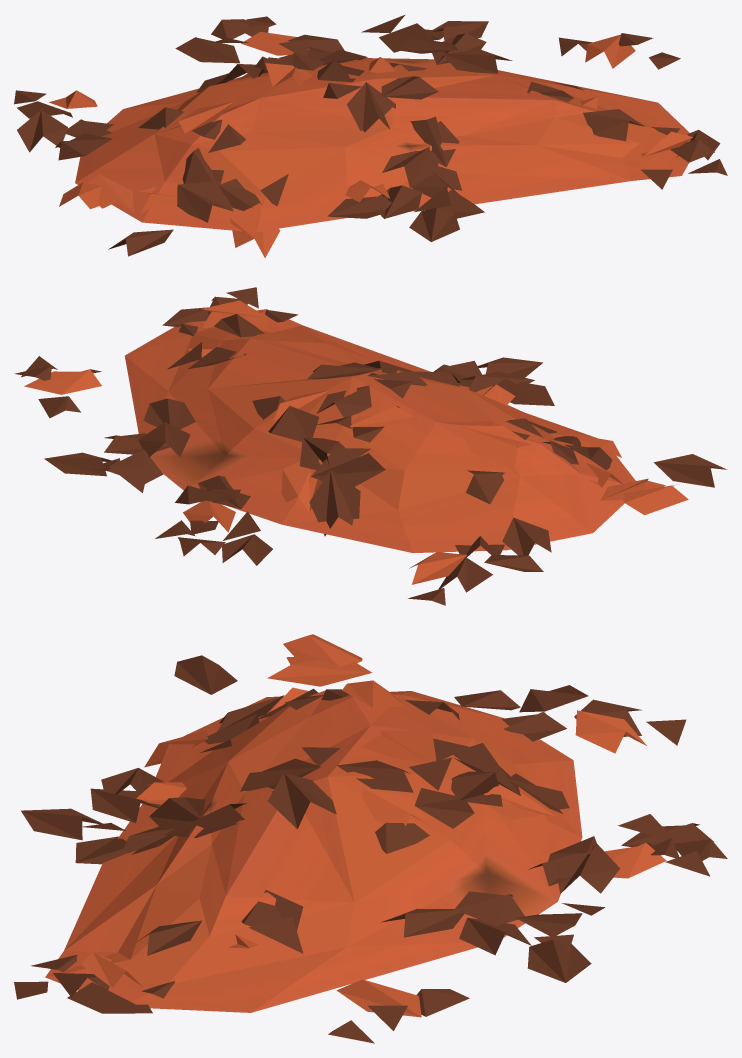
File: samurai_SM_Gen_Env_Leaves_Pile_01.gltf
3 views of the same model, one above another, from view 1: azimuth 30°, elevation 25°; view 2: azimuth 150°, elevation 25°; view 3: azimuth 270°, elevation 25° (orthographic). The views are drawn at different scales.
Visible parts, largest first — view 1: SM_Gen_Env_Leaves_Pile_01; view 2: SM_Gen_Env_Leaves_Pile_01; view 3: SM_Gen_Env_Leaves_Pile_01.
Part boxes in pixels (x1=…): SM_Gen_Env_Leaves_Pile_01: x1=14, y1=14, x2=727, y2=257; SM_Gen_Env_Leaves_Pile_01: x1=14, y1=287, x2=727, y2=605; SM_Gen_Env_Leaves_Pile_01: x1=14, y1=634, x2=727, y2=1043.
Bounding box in the file's own units: 2.43 × 0.3138 × 1.89.
1 material, 1 textured.
